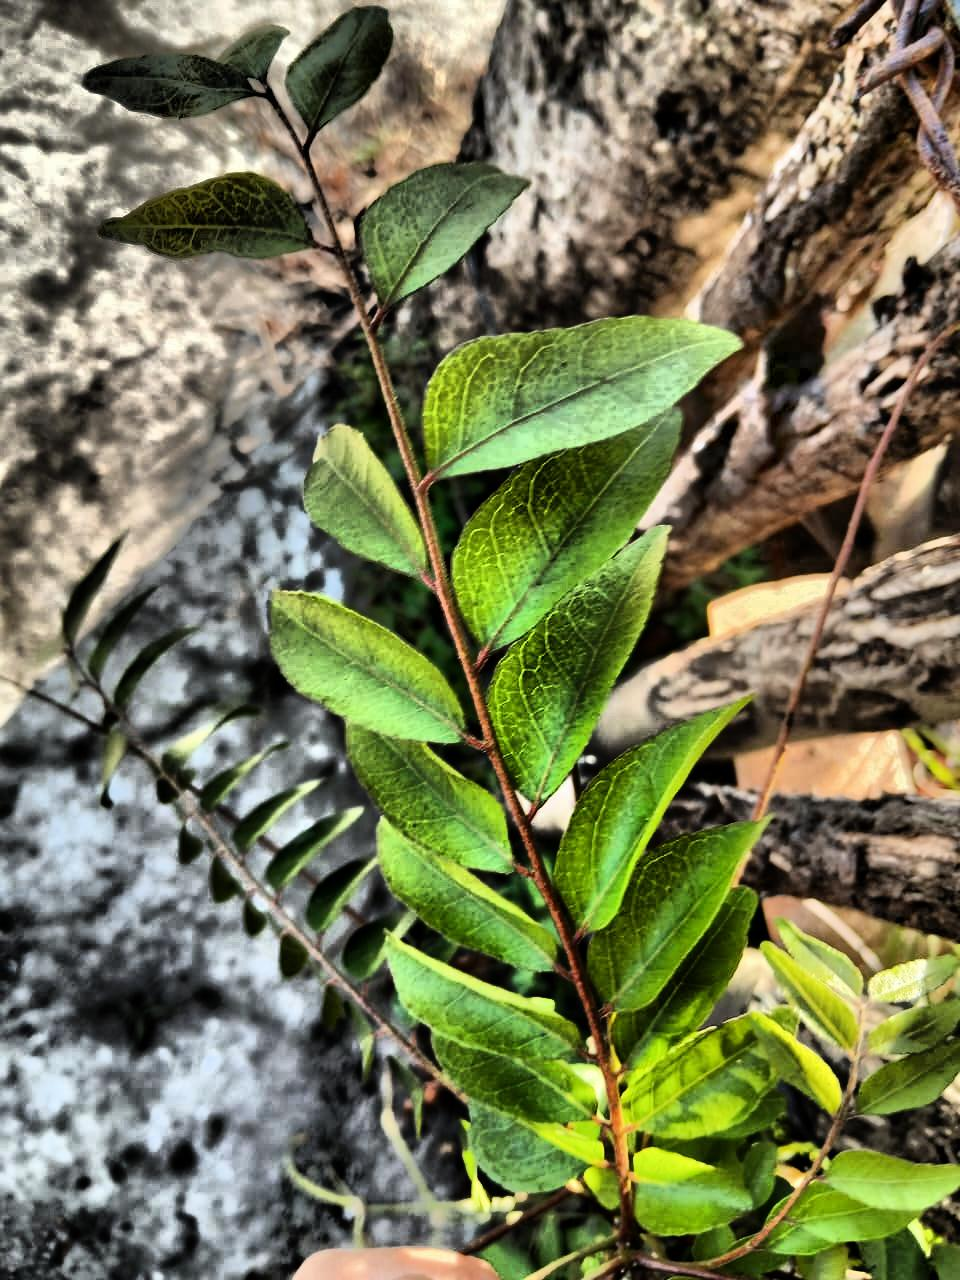daun kari: (86, 7, 959, 1279)
